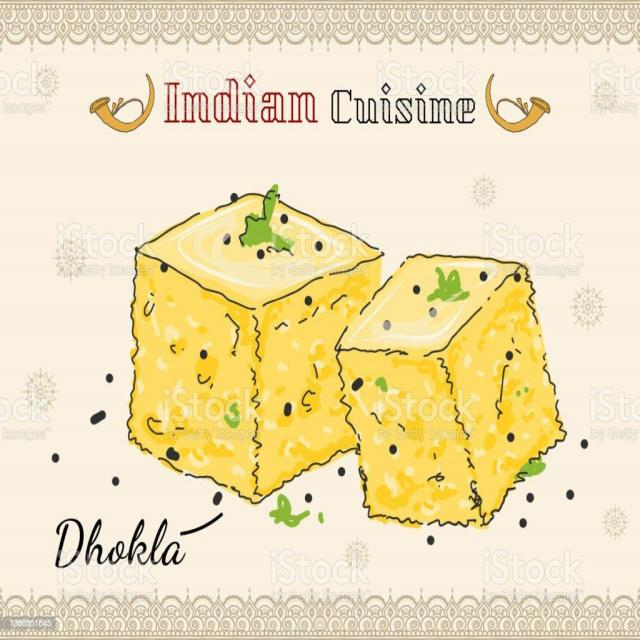dhokla: (134, 187, 565, 550)
